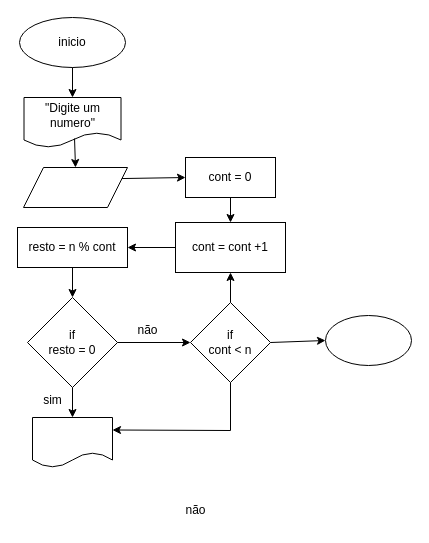
Some shapes in this 429 by 543 pixel diagram are drawn without their labels. Each missing label, with the box of its shape:
cont: (32, 416, 112, 468)
fim: (324, 314, 412, 366)
leia n: (22, 166, 128, 208)
